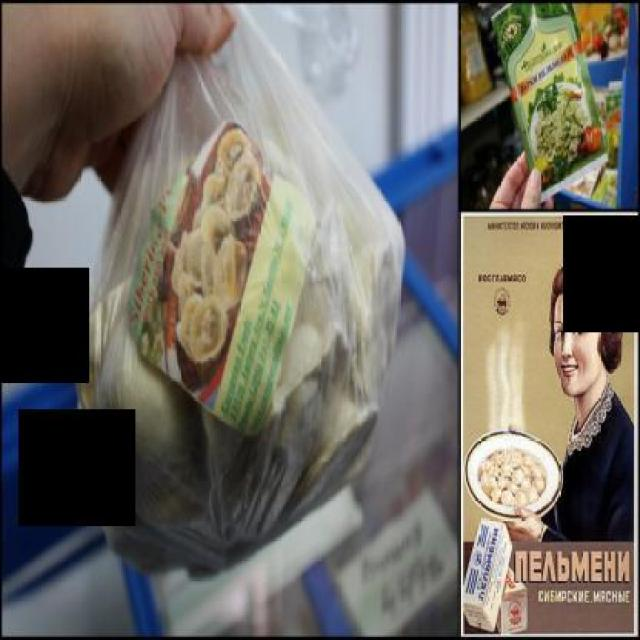plastic bag: (71, 0, 406, 582)
